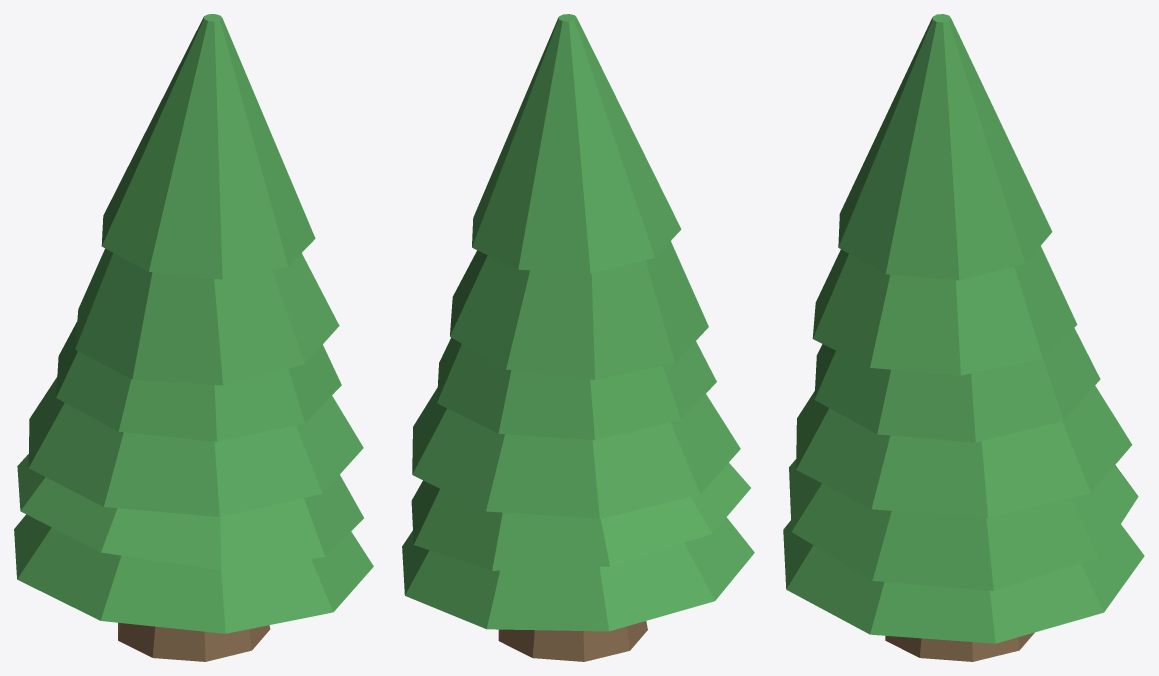
The model's file is pine tree 1.fbx.
The picture shows the model from 3 angles, left to right: view 1: azimuth 30°, elevation 25°; view 2: azimuth 150°, elevation 25°; view 3: azimuth 270°, elevation 25°; orthographic projection. The views are drawn at different scales.
Parts seen in each view (by area): view 1: xmas tree 3; view 2: xmas tree 3; view 3: xmas tree 3.
Part boxes in pixels (bbox=[...]): xmas tree 3: bbox=[14, 14, 373, 661]; xmas tree 3: bbox=[402, 14, 754, 661]; xmas tree 3: bbox=[783, 14, 1144, 661].
Size of the model in its own units: 833 by 1555 by 825.
